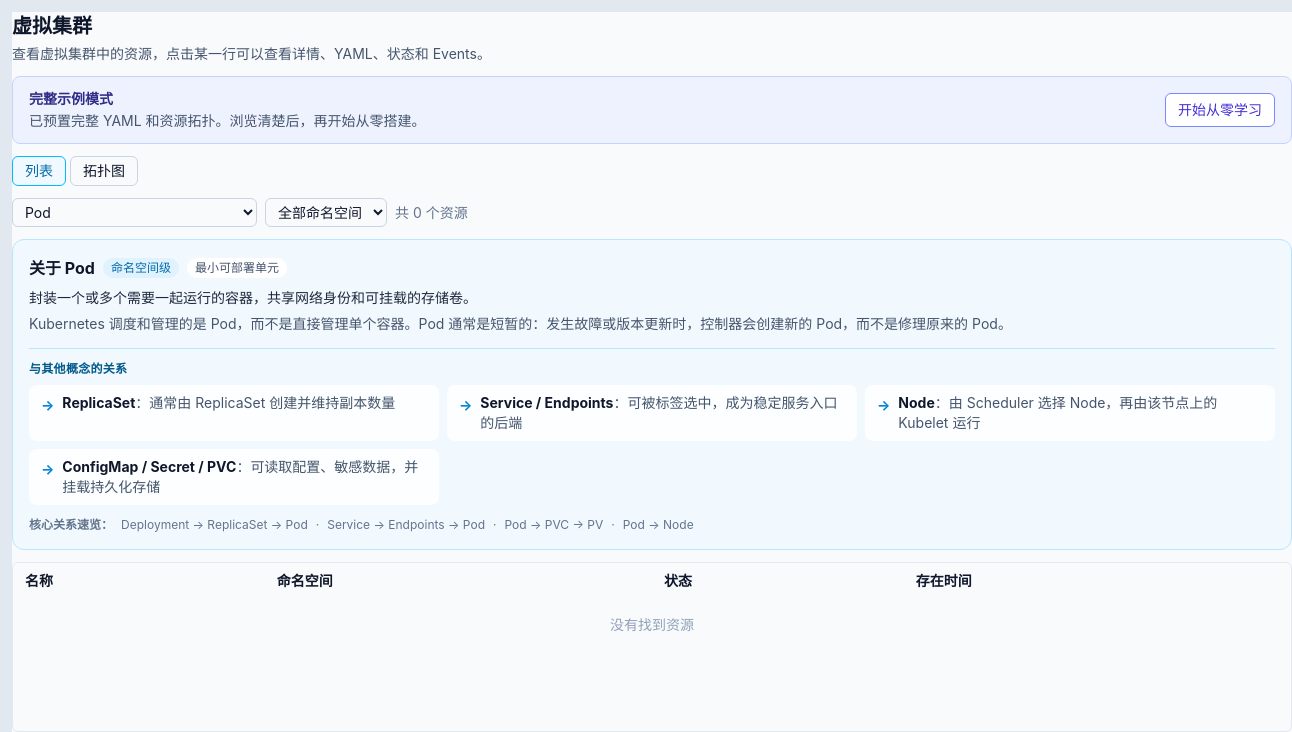
ClusterPage：点击资源行展示详情面板 › PV 是集群级资源，选中后不显示命名空间筛选框
This screenshot has width=1292, height=732.
Select "PersistentVolume (PV)" in the dropdown named "资源类型" at {"x": 134, "y": 212}, box [12, 198, 257, 227]
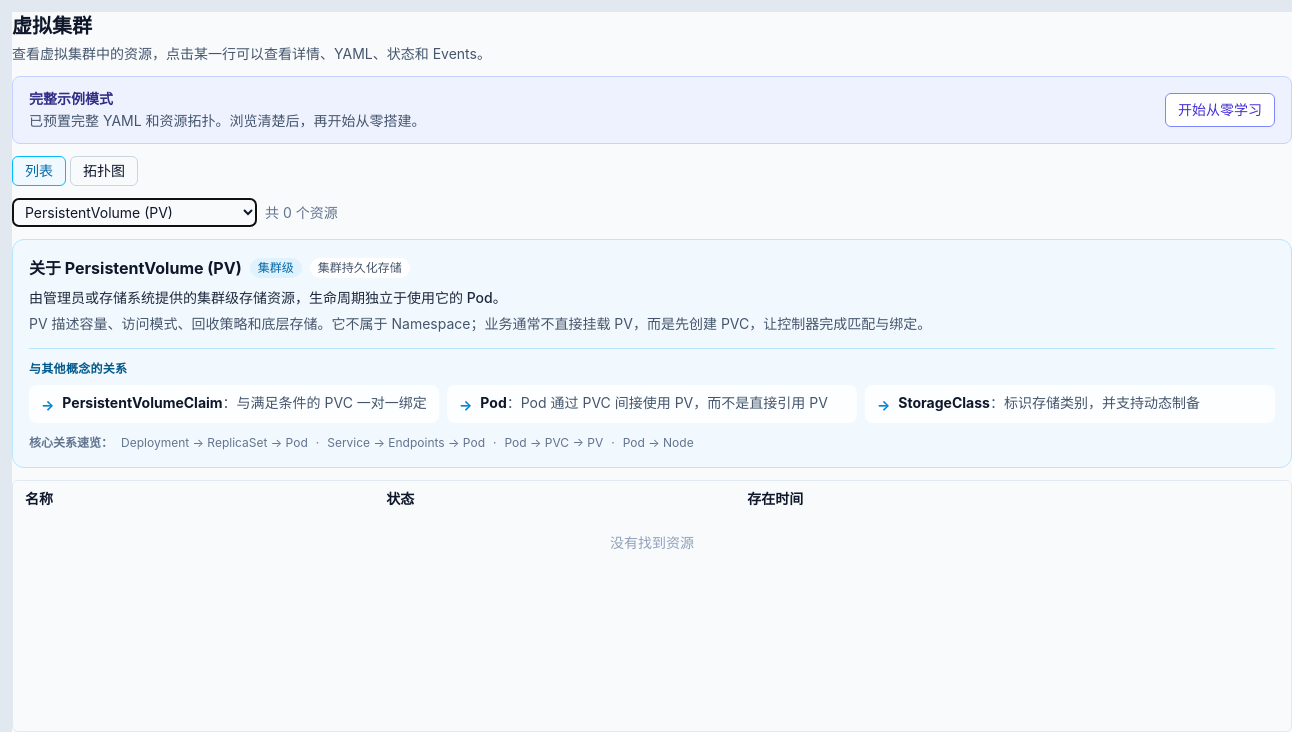
Expected: the text "集群级" is shown, [250, 258, 302, 278]
Expected: the text "命名空间" is gone
